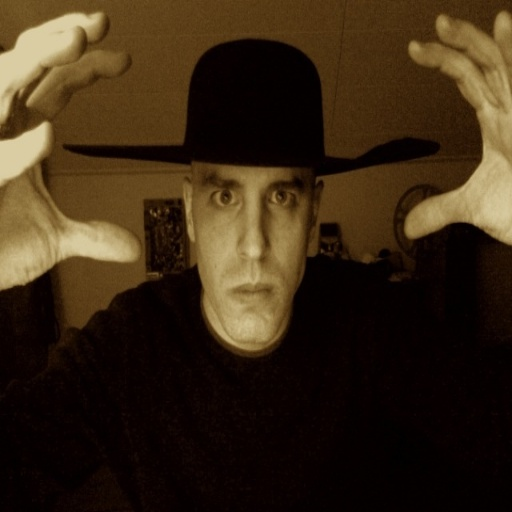hand: (0, 11, 141, 288), (409, 0, 512, 252)
